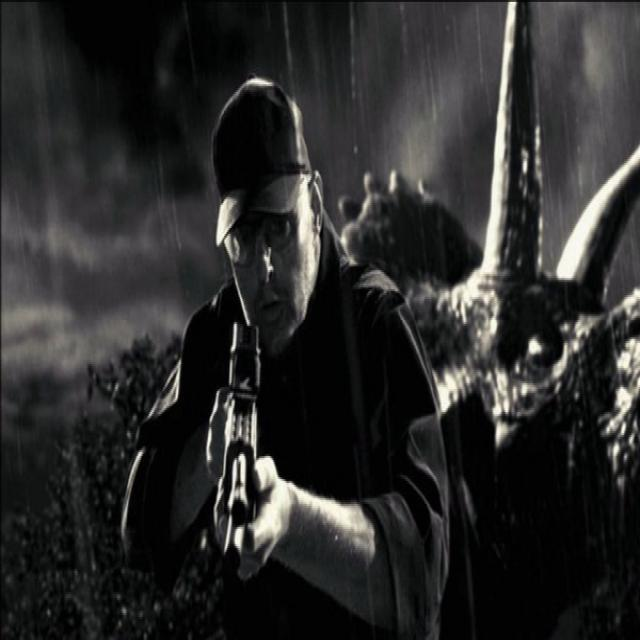rifle: (222, 306, 268, 602)
